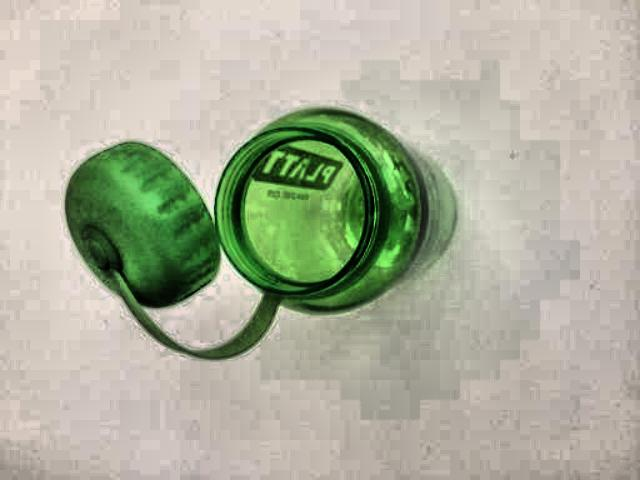Plastic: (54, 93, 479, 366)
